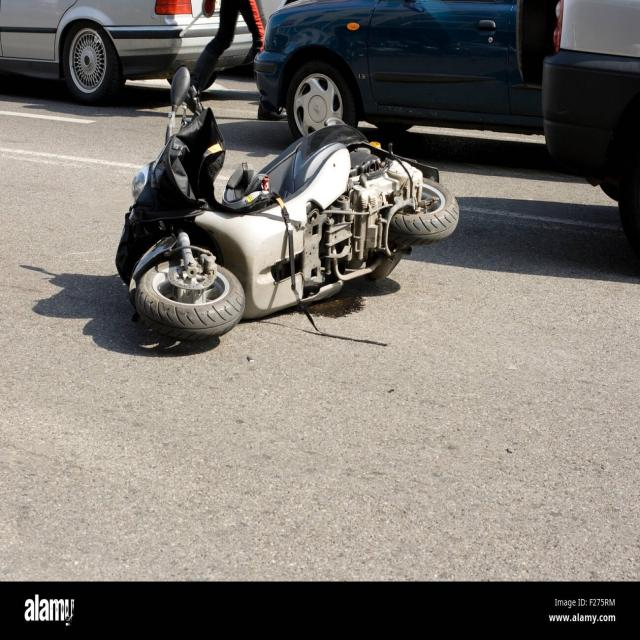accident: (116, 68, 459, 341)
